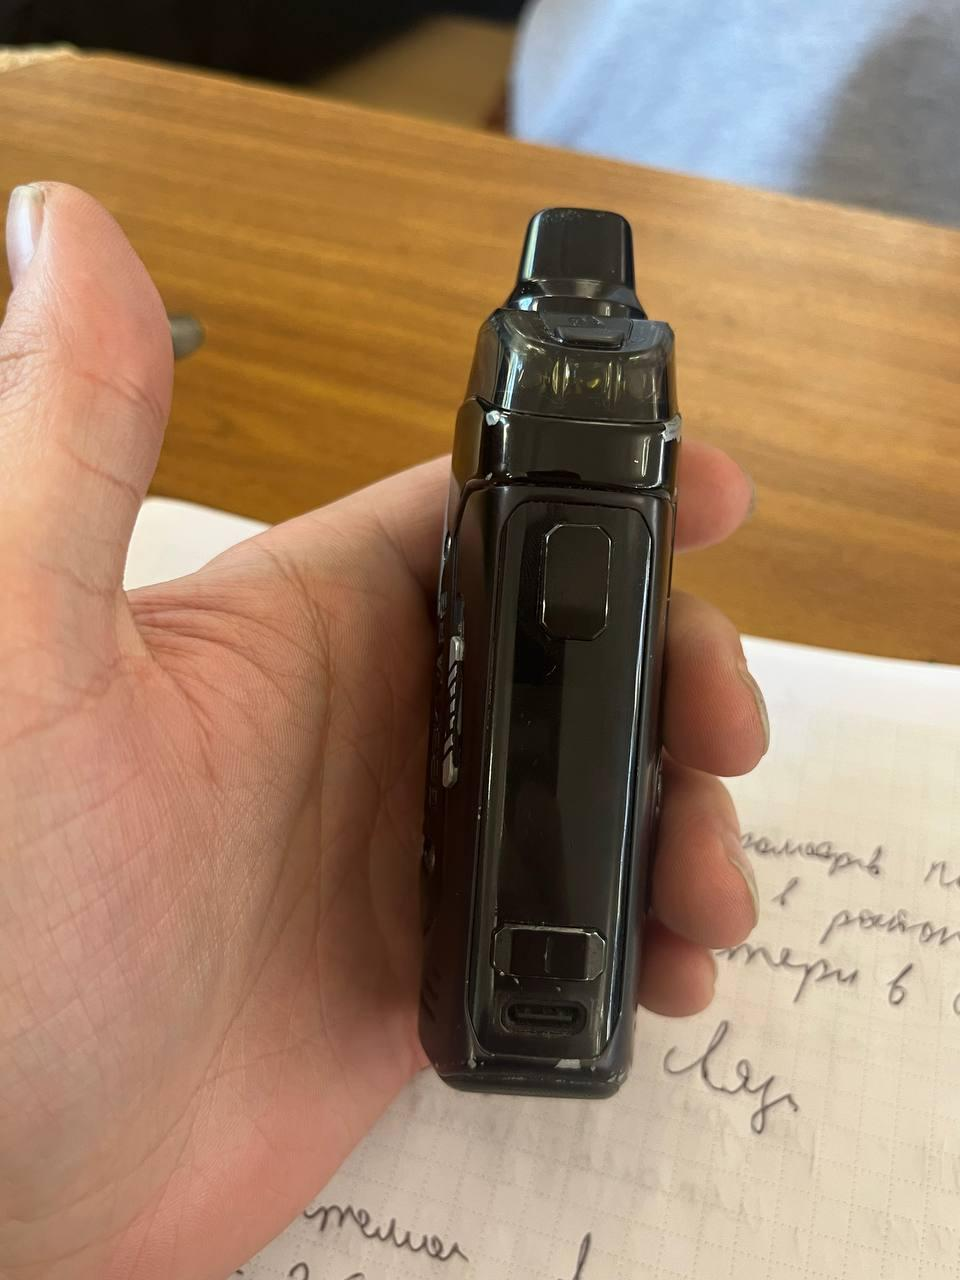Vape: (420, 208, 680, 1097)
